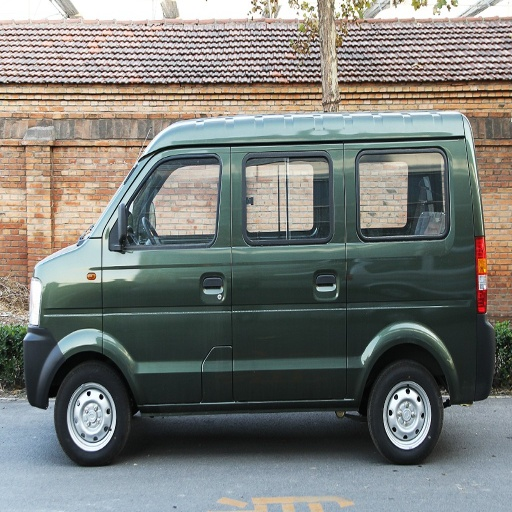back_left_door: (232, 147, 325, 396)
trunk: (356, 242, 483, 395)
